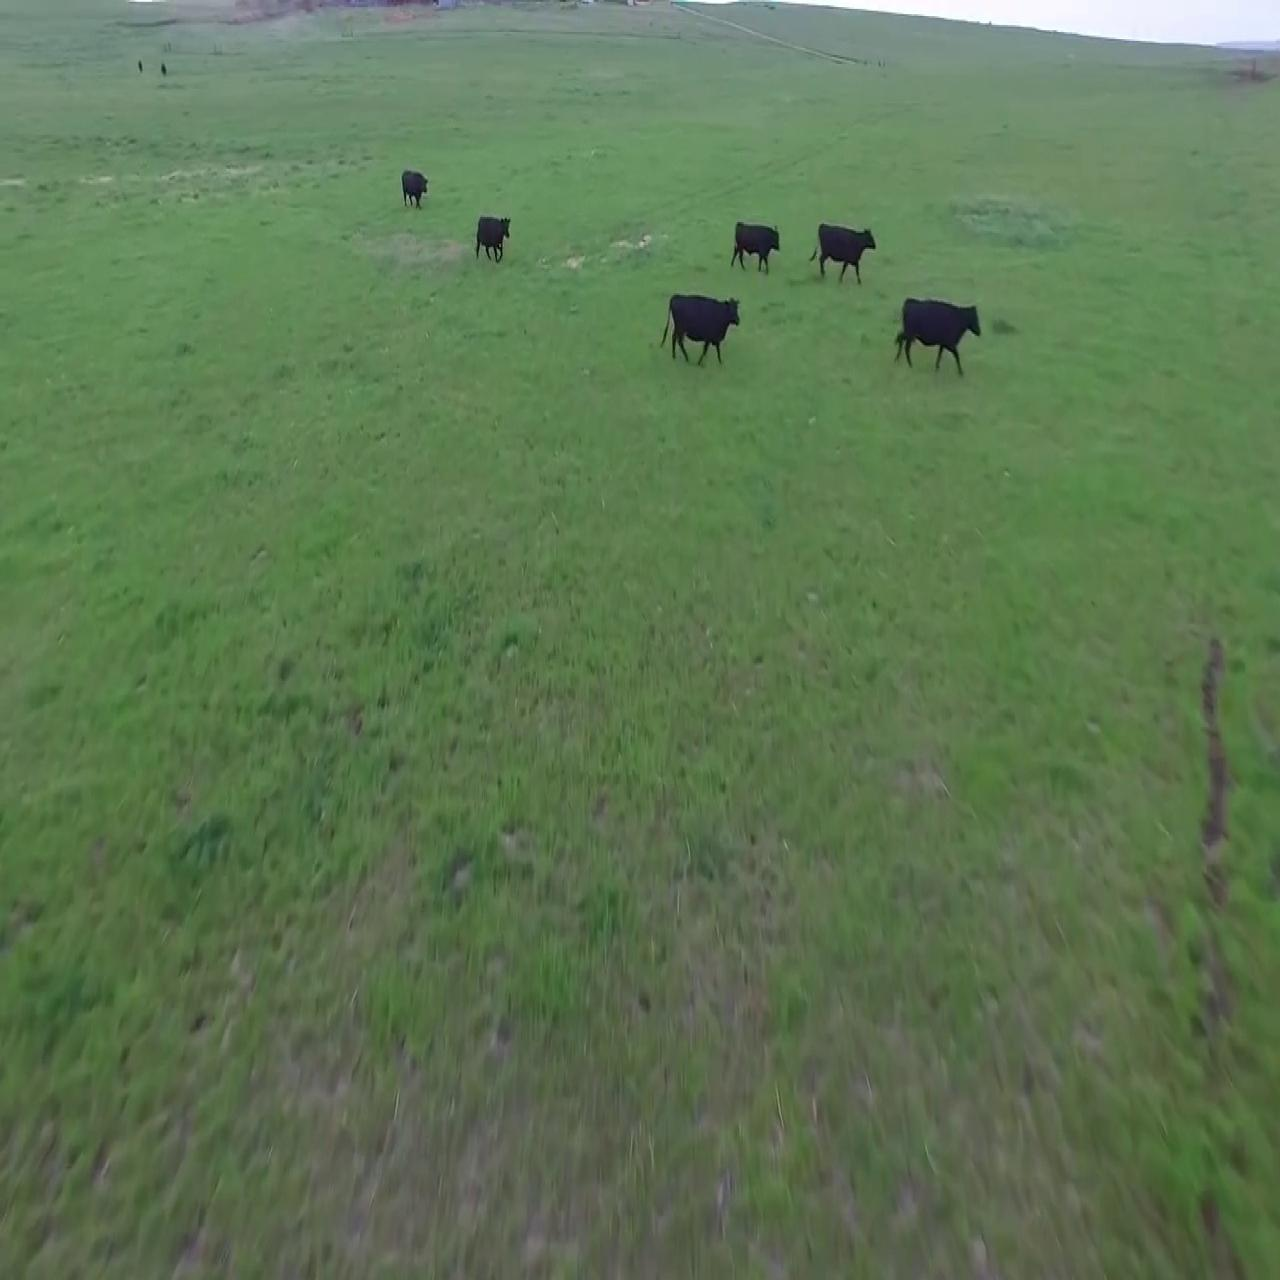cow: (888, 295, 985, 386), (662, 287, 743, 370), (812, 218, 881, 292), (730, 219, 788, 279), (472, 209, 516, 271), (399, 166, 434, 217)
